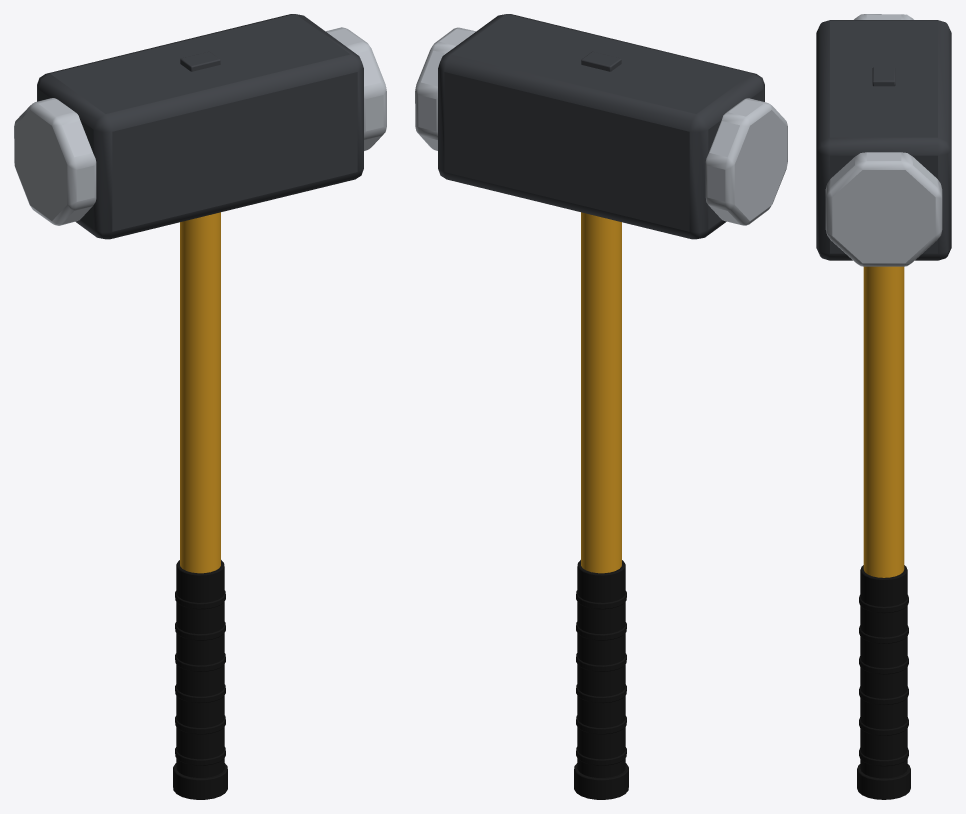
File: hammer.glb
3 views of the same model, side by side, from view 1: azimuth 30°, elevation 25°; view 2: azimuth 150°, elevation 25°; view 3: azimuth 270°, elevation 25° (orthographic). The views are drawn at different scales.
Visible parts, largest first — view 1: head, handle, grip, face-1, face1, end; view 2: head, handle, grip, face-1, face1, end; view 3: head, handle, face1, grip, end, wedge, grip_rib3, grip_rib4, grip_rib5, grip_rib2, grip_rib0, grip_rib1 (+1 smaller).
Boxes of the visible parts, bbox=[...] form: head: bbox=[37, 14, 363, 239]; handle: bbox=[180, 212, 220, 573]; grip: bbox=[176, 560, 224, 777]; face-1: bbox=[14, 98, 96, 225]; face1: bbox=[326, 27, 386, 150]; end: bbox=[173, 763, 227, 799]; head: bbox=[438, 14, 764, 239]; handle: bbox=[581, 212, 621, 573]; grip: bbox=[577, 560, 625, 777]; face-1: bbox=[705, 98, 787, 225]; face1: bbox=[415, 27, 475, 150]; end: bbox=[574, 763, 628, 799]; head: bbox=[816, 20, 951, 260]; handle: bbox=[863, 266, 904, 577]; face1: bbox=[825, 152, 942, 266]; grip: bbox=[860, 565, 907, 778]; end: bbox=[857, 764, 910, 799]; wedge: bbox=[872, 67, 895, 86]; grip_rib3: bbox=[859, 656, 908, 674]; grip_rib4: bbox=[859, 625, 908, 643]; grip_rib5: bbox=[859, 595, 908, 613]; grip_rib2: bbox=[859, 686, 908, 704]; grip_rib0: bbox=[859, 748, 908, 766]; grip_rib1: bbox=[859, 717, 908, 735].
Bounding box in the file's own units: 0.32 × 0.7 × 0.12.
